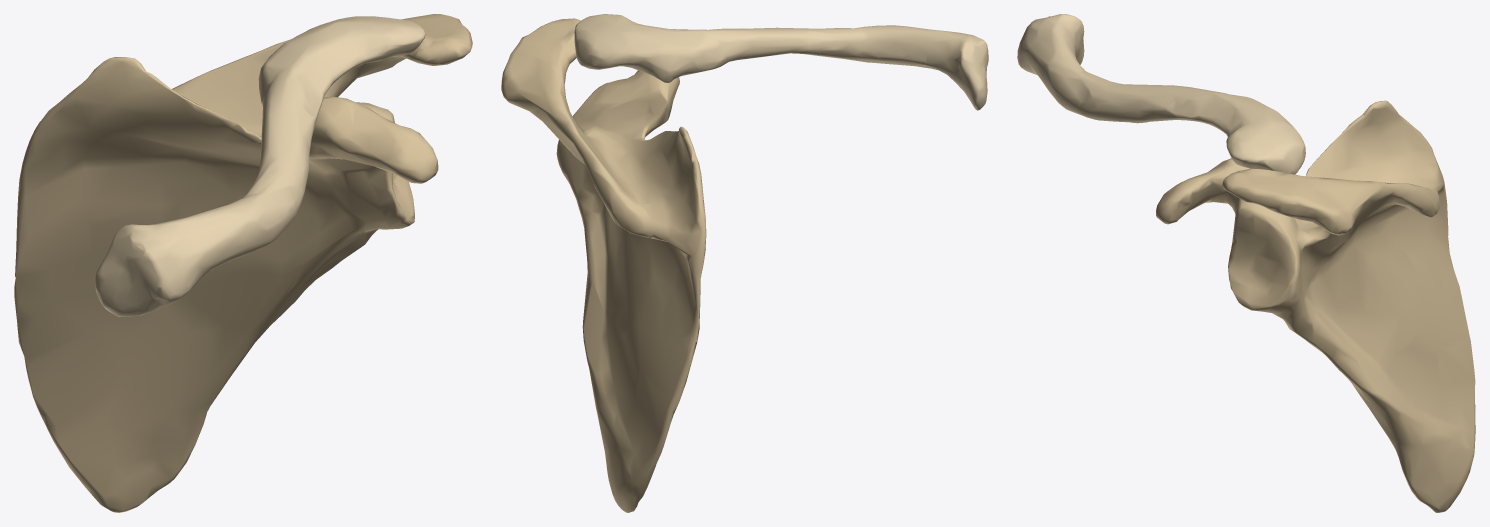
File: l-shoulder.glb
3 views of the same model, side by side, from view 1: azimuth 30°, elevation 25°; view 2: azimuth 150°, elevation 25°; view 3: azimuth 270°, elevation 25° (orthographic). The views are drawn at different scales.
Parts seen in each view (by area): view 1: left-scapula, left-clavicle; view 2: left-scapula, left-clavicle; view 3: left-scapula, left-clavicle.
Boxes of the visible parts, x1,y1,x2,y2 form: left-scapula: [14, 14, 472, 512]; left-clavicle: [95, 16, 425, 316]; left-scapula: [501, 18, 706, 512]; left-clavicle: [574, 14, 988, 110]; left-scapula: [1156, 100, 1475, 512]; left-clavicle: [1017, 14, 1305, 174].
Bounding box in the file's own units: 0.393 × 0.4131 × 0.3951.
